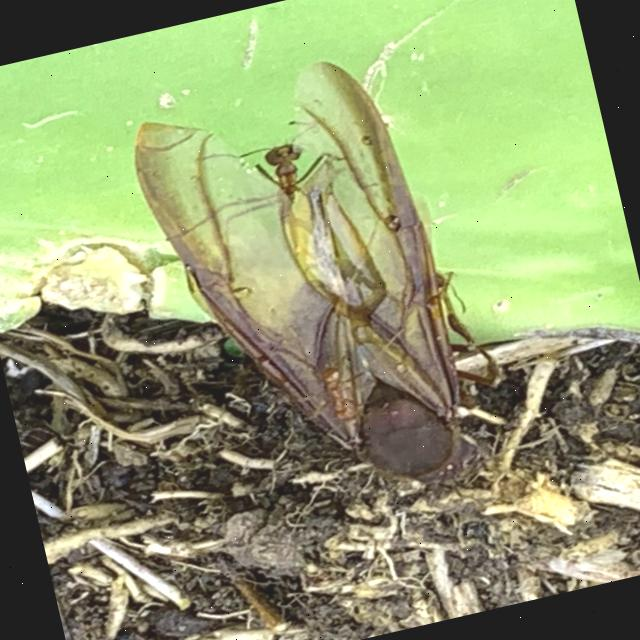Alive-Female-Alate: (120, 36, 524, 534)
